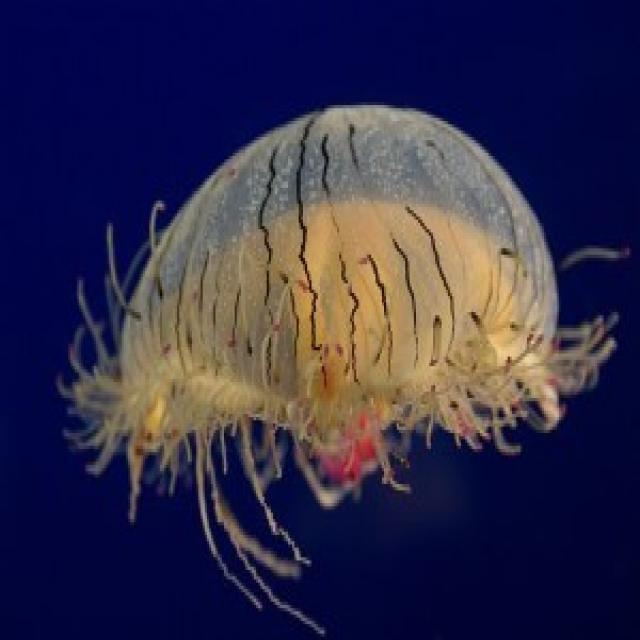Jellyfish: (49, 75, 615, 612)
